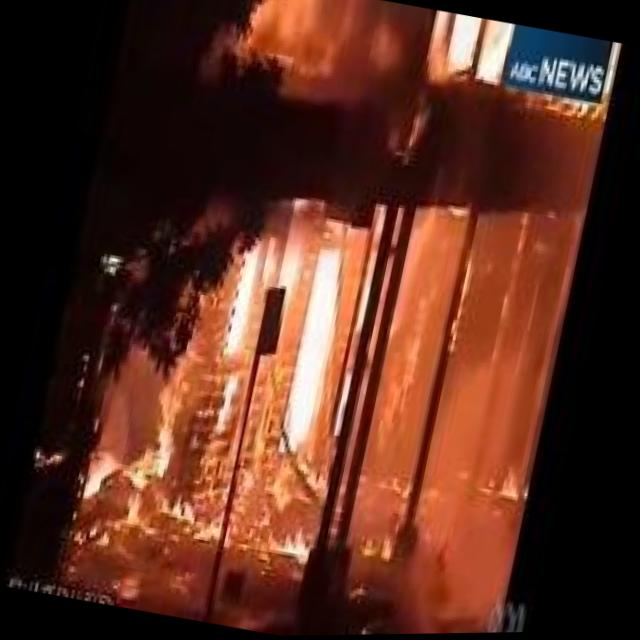fire: (81, 326, 210, 529), (266, 230, 367, 472), (212, 229, 289, 365), (439, 17, 515, 97), (171, 495, 248, 554), (481, 456, 539, 516), (264, 520, 322, 567), (26, 436, 70, 477), (356, 529, 402, 565)
